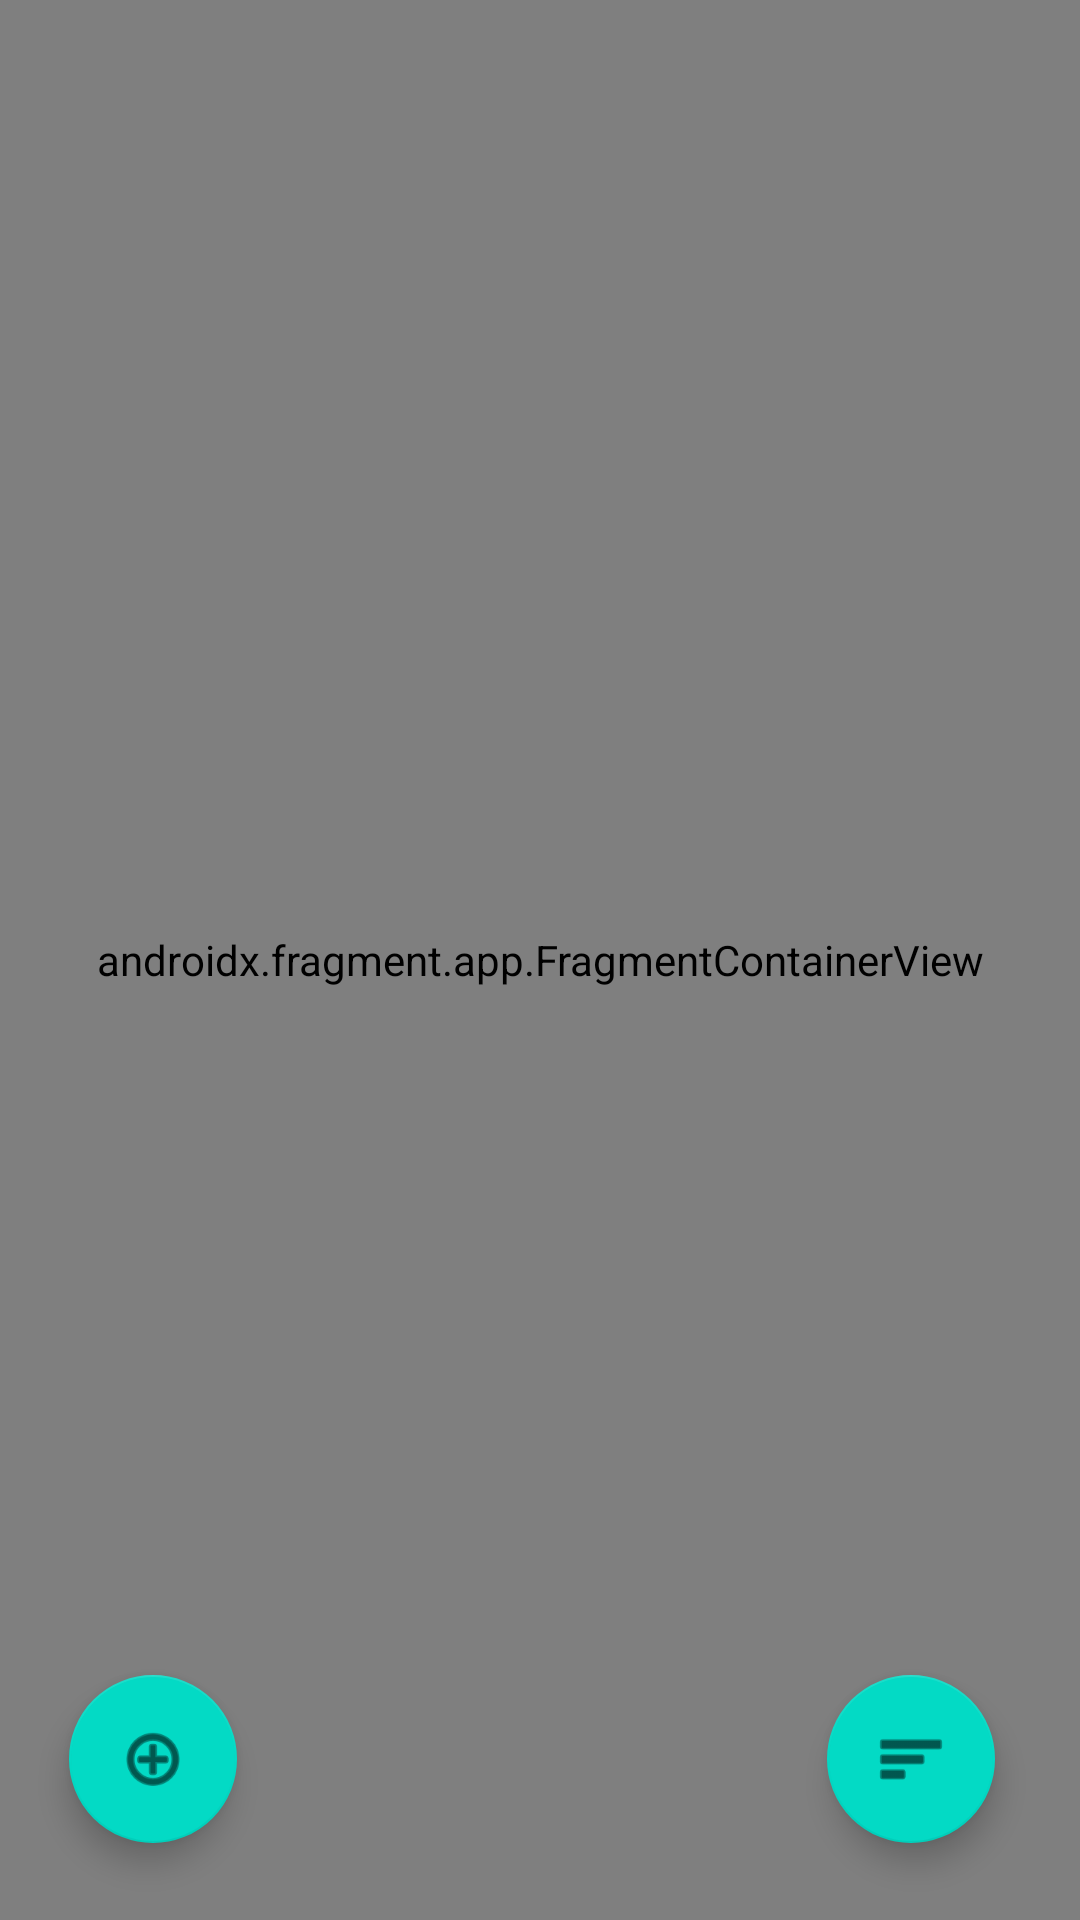

Screen size 1080×1920. Icon name, then its center in pixels as (x=x, y=y):
add: (x=153, y=1759)
sort by size: (x=911, y=1759)
